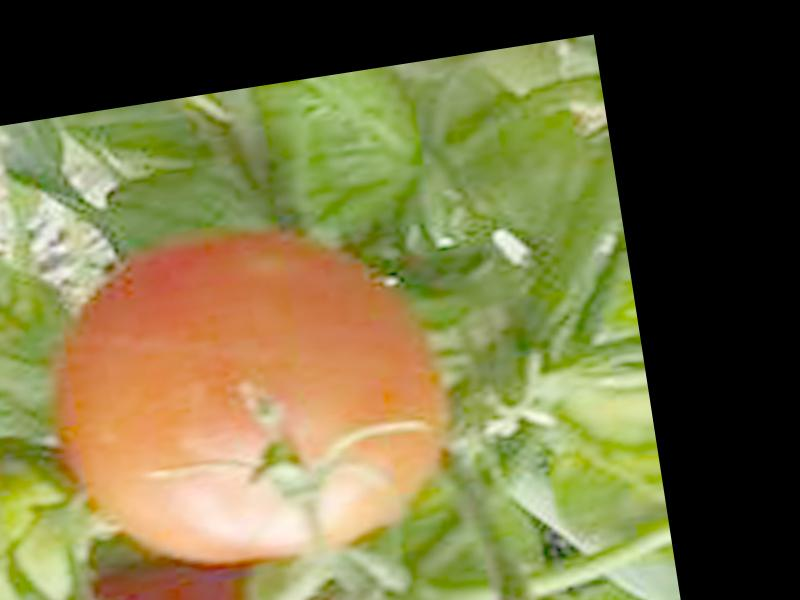Tomato: (39, 213, 462, 589)
